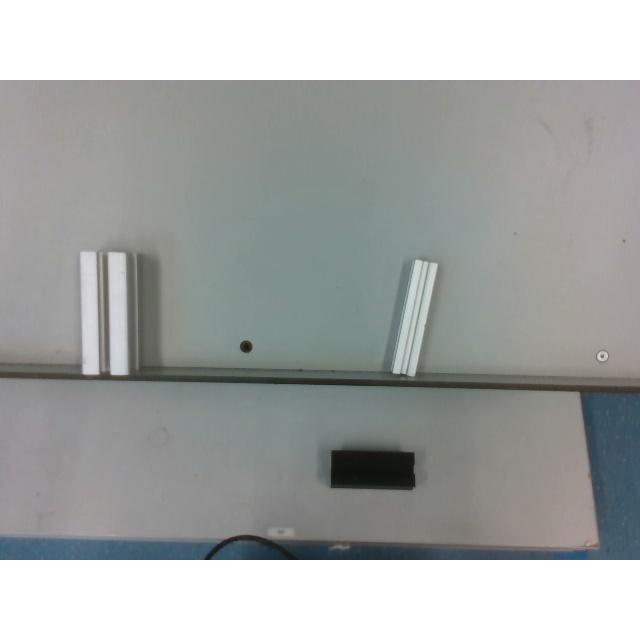F20_20_G: (392, 257, 440, 379)
S40_40_B: (330, 448, 414, 488)
S40_40_G: (80, 251, 142, 379)
